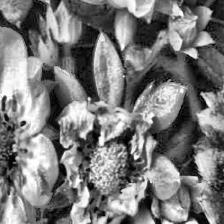Blossom Blight: (71, 123, 148, 217), (0, 93, 31, 202)
